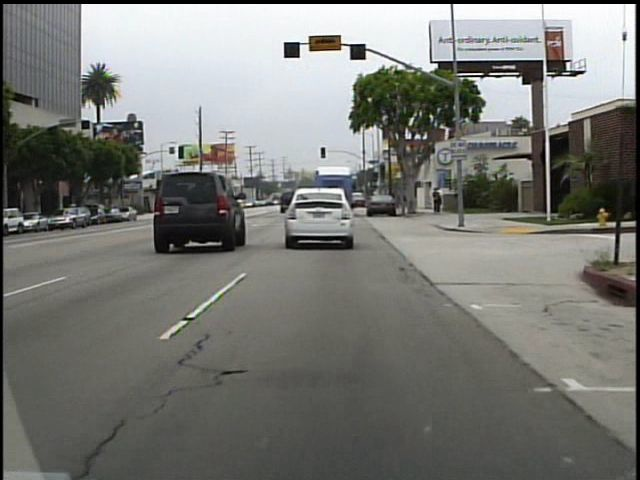person: (431, 187, 442, 217), (438, 187, 447, 214)
